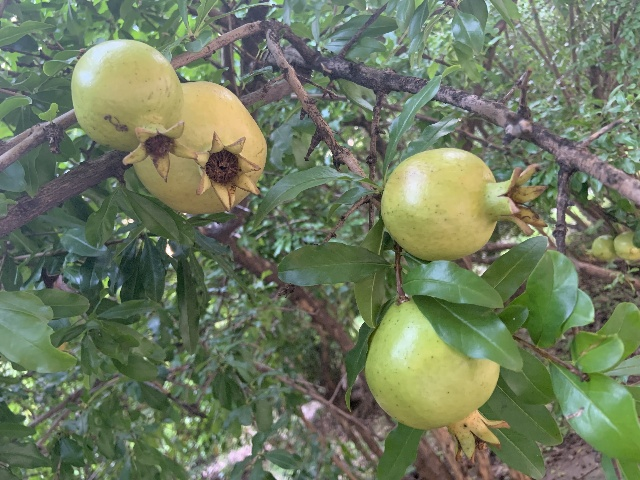mid-growth: (364, 299, 510, 461), (381, 147, 548, 261), (71, 39, 198, 185), (134, 81, 266, 211), (584, 234, 615, 262), (613, 230, 640, 260)
